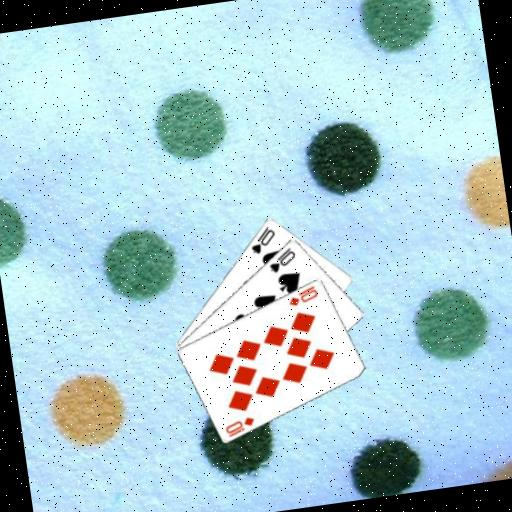10D: (221, 413, 259, 440), (284, 282, 321, 309)
10S: (246, 223, 280, 257), (264, 244, 300, 276)
